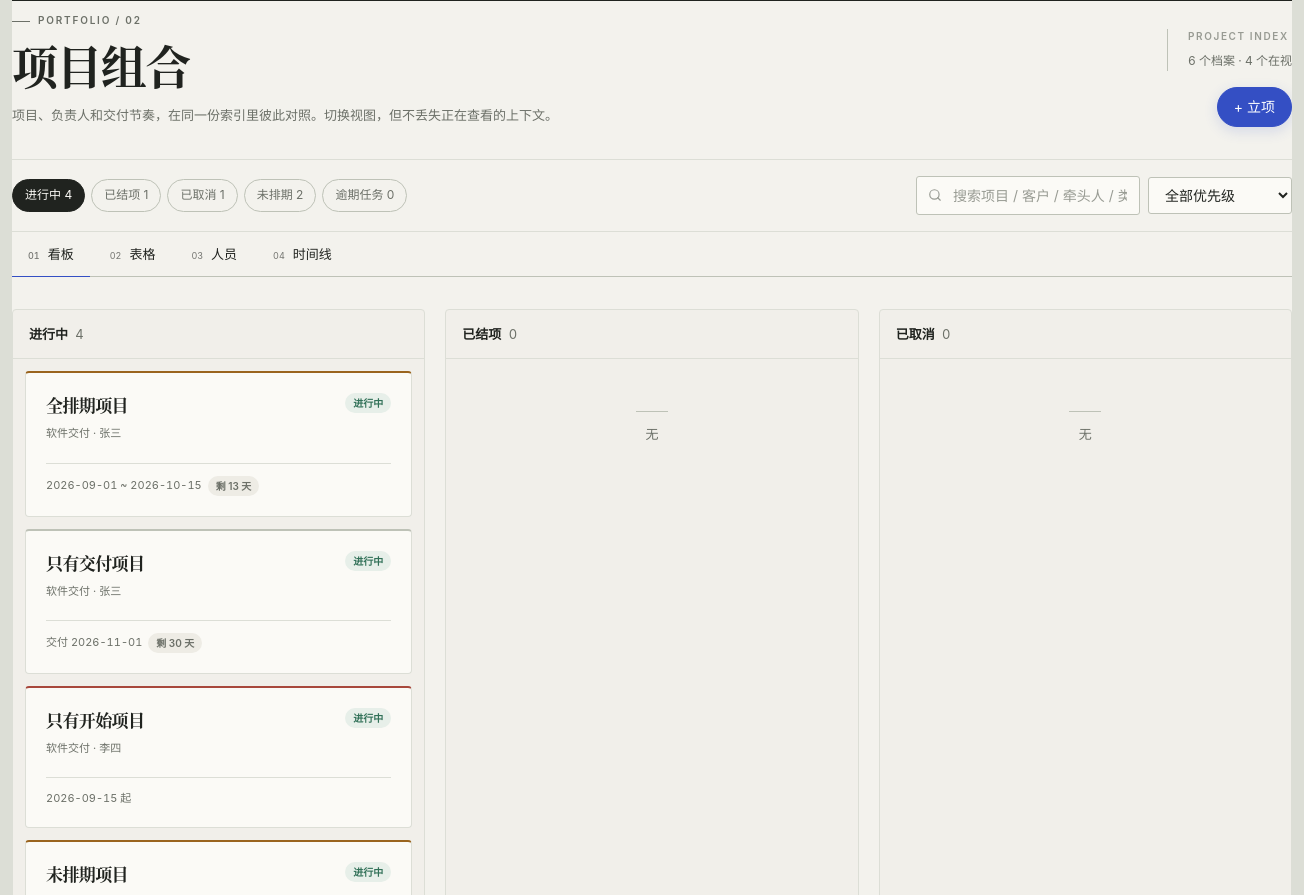
Test: S30 项目组合页（v0.29） › S30-6: 默认仅取进行中项目；点状态芯片纳入终态；芯片计数来自 facets 不受选择影响
Expected: the link "全排期项目" is shown, [46,394,128,418]
Expected: the button "进行中 4" is shown, [12,179,85,212]
// 点「已结项」芯片 → 重查含 closed，看板已结项列出现 1 项
Click the button "已结项 1" at (126,195), box [91,179,162,212]
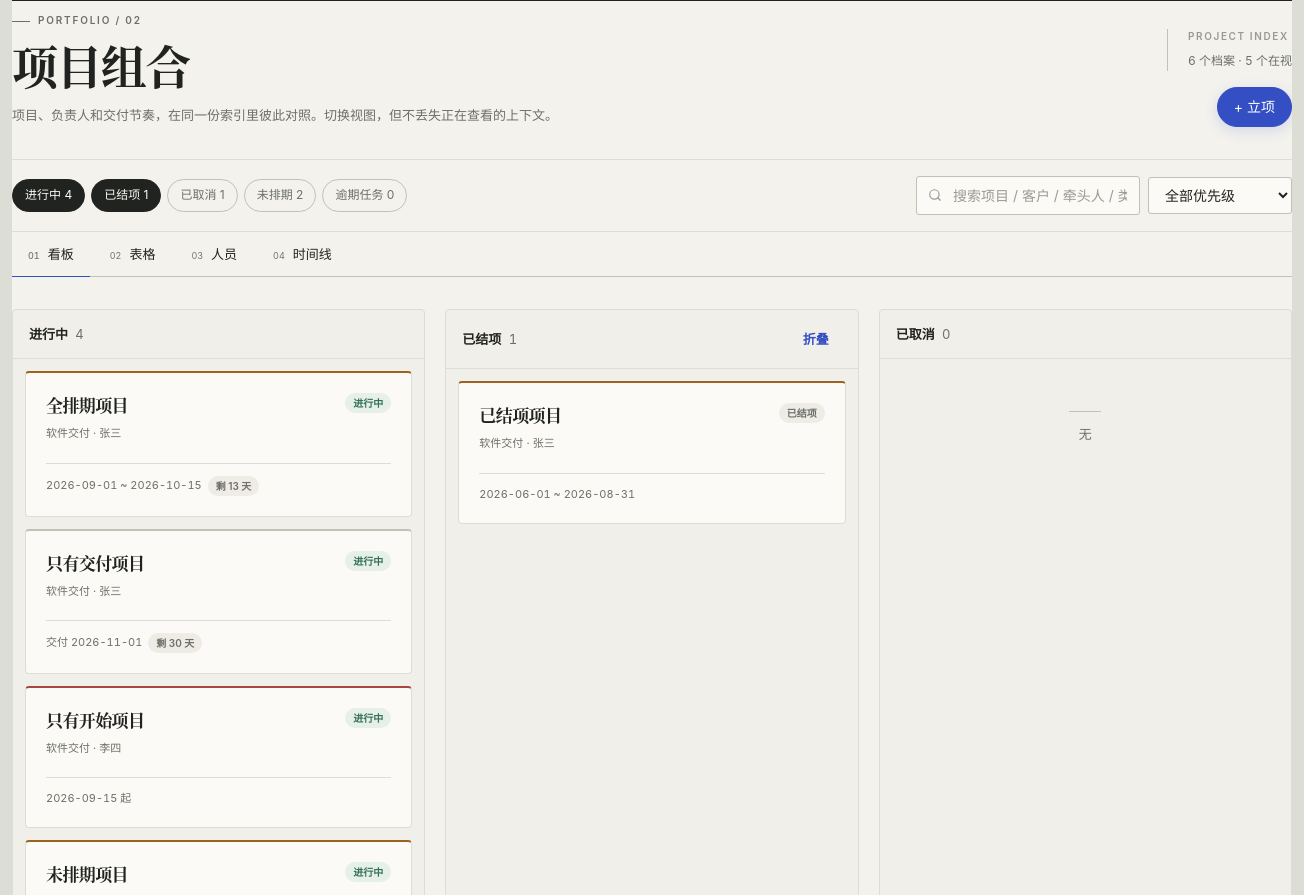
Expected: the link "已结项项目" is shown, [479,404,561,428]
